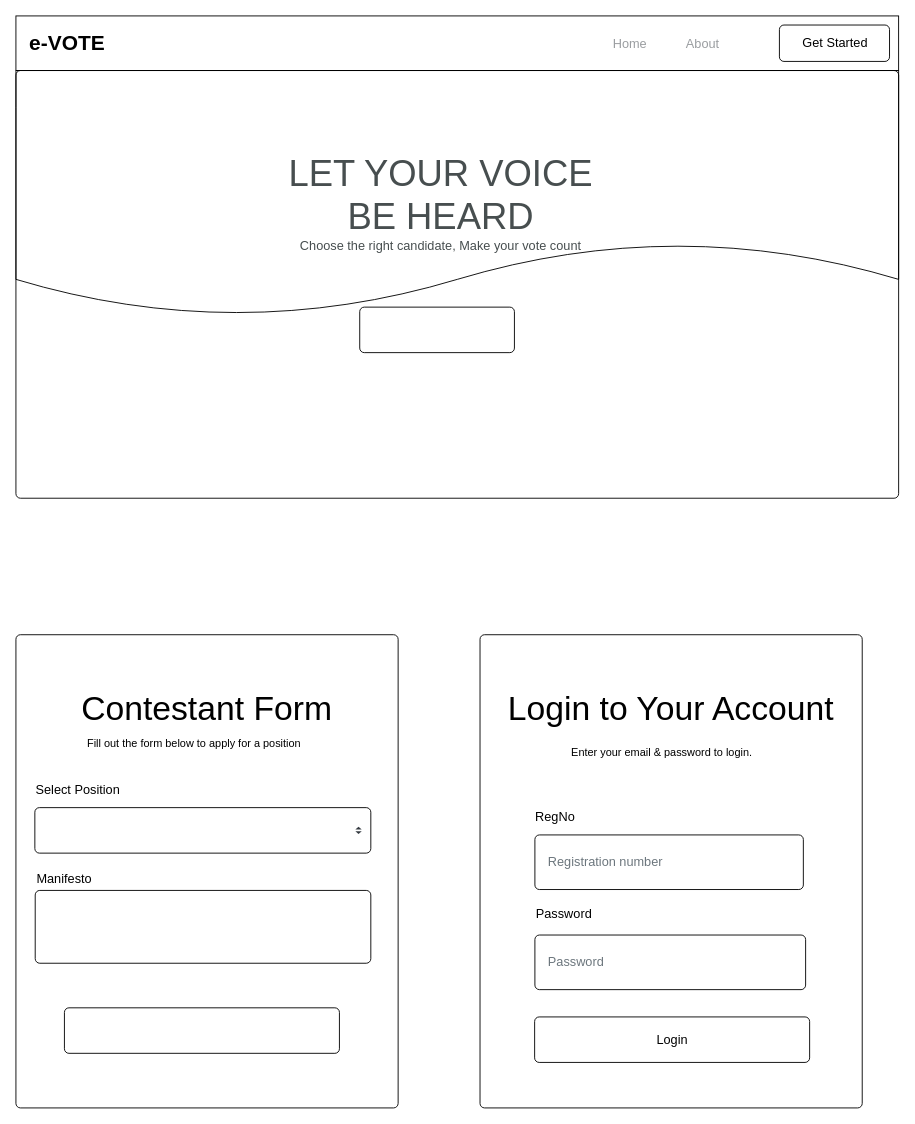
Image size: 915x1124. Some labels were removed from this diagram. Each missing label, with the centre of its shape:
"Apply" belongs at pixel 201 1030.
"Cast Vote" belongs at pixel 436 329.
"Open this select menu" belongs at pixel 202 830.
